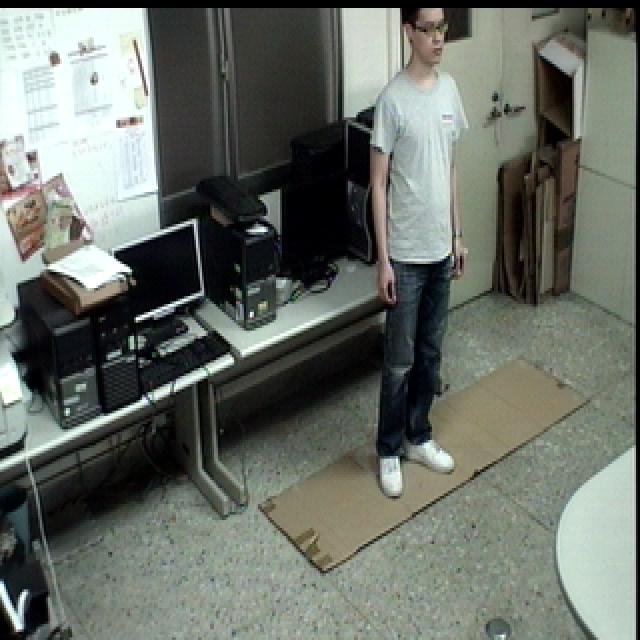stand: (366, 0, 468, 503)
